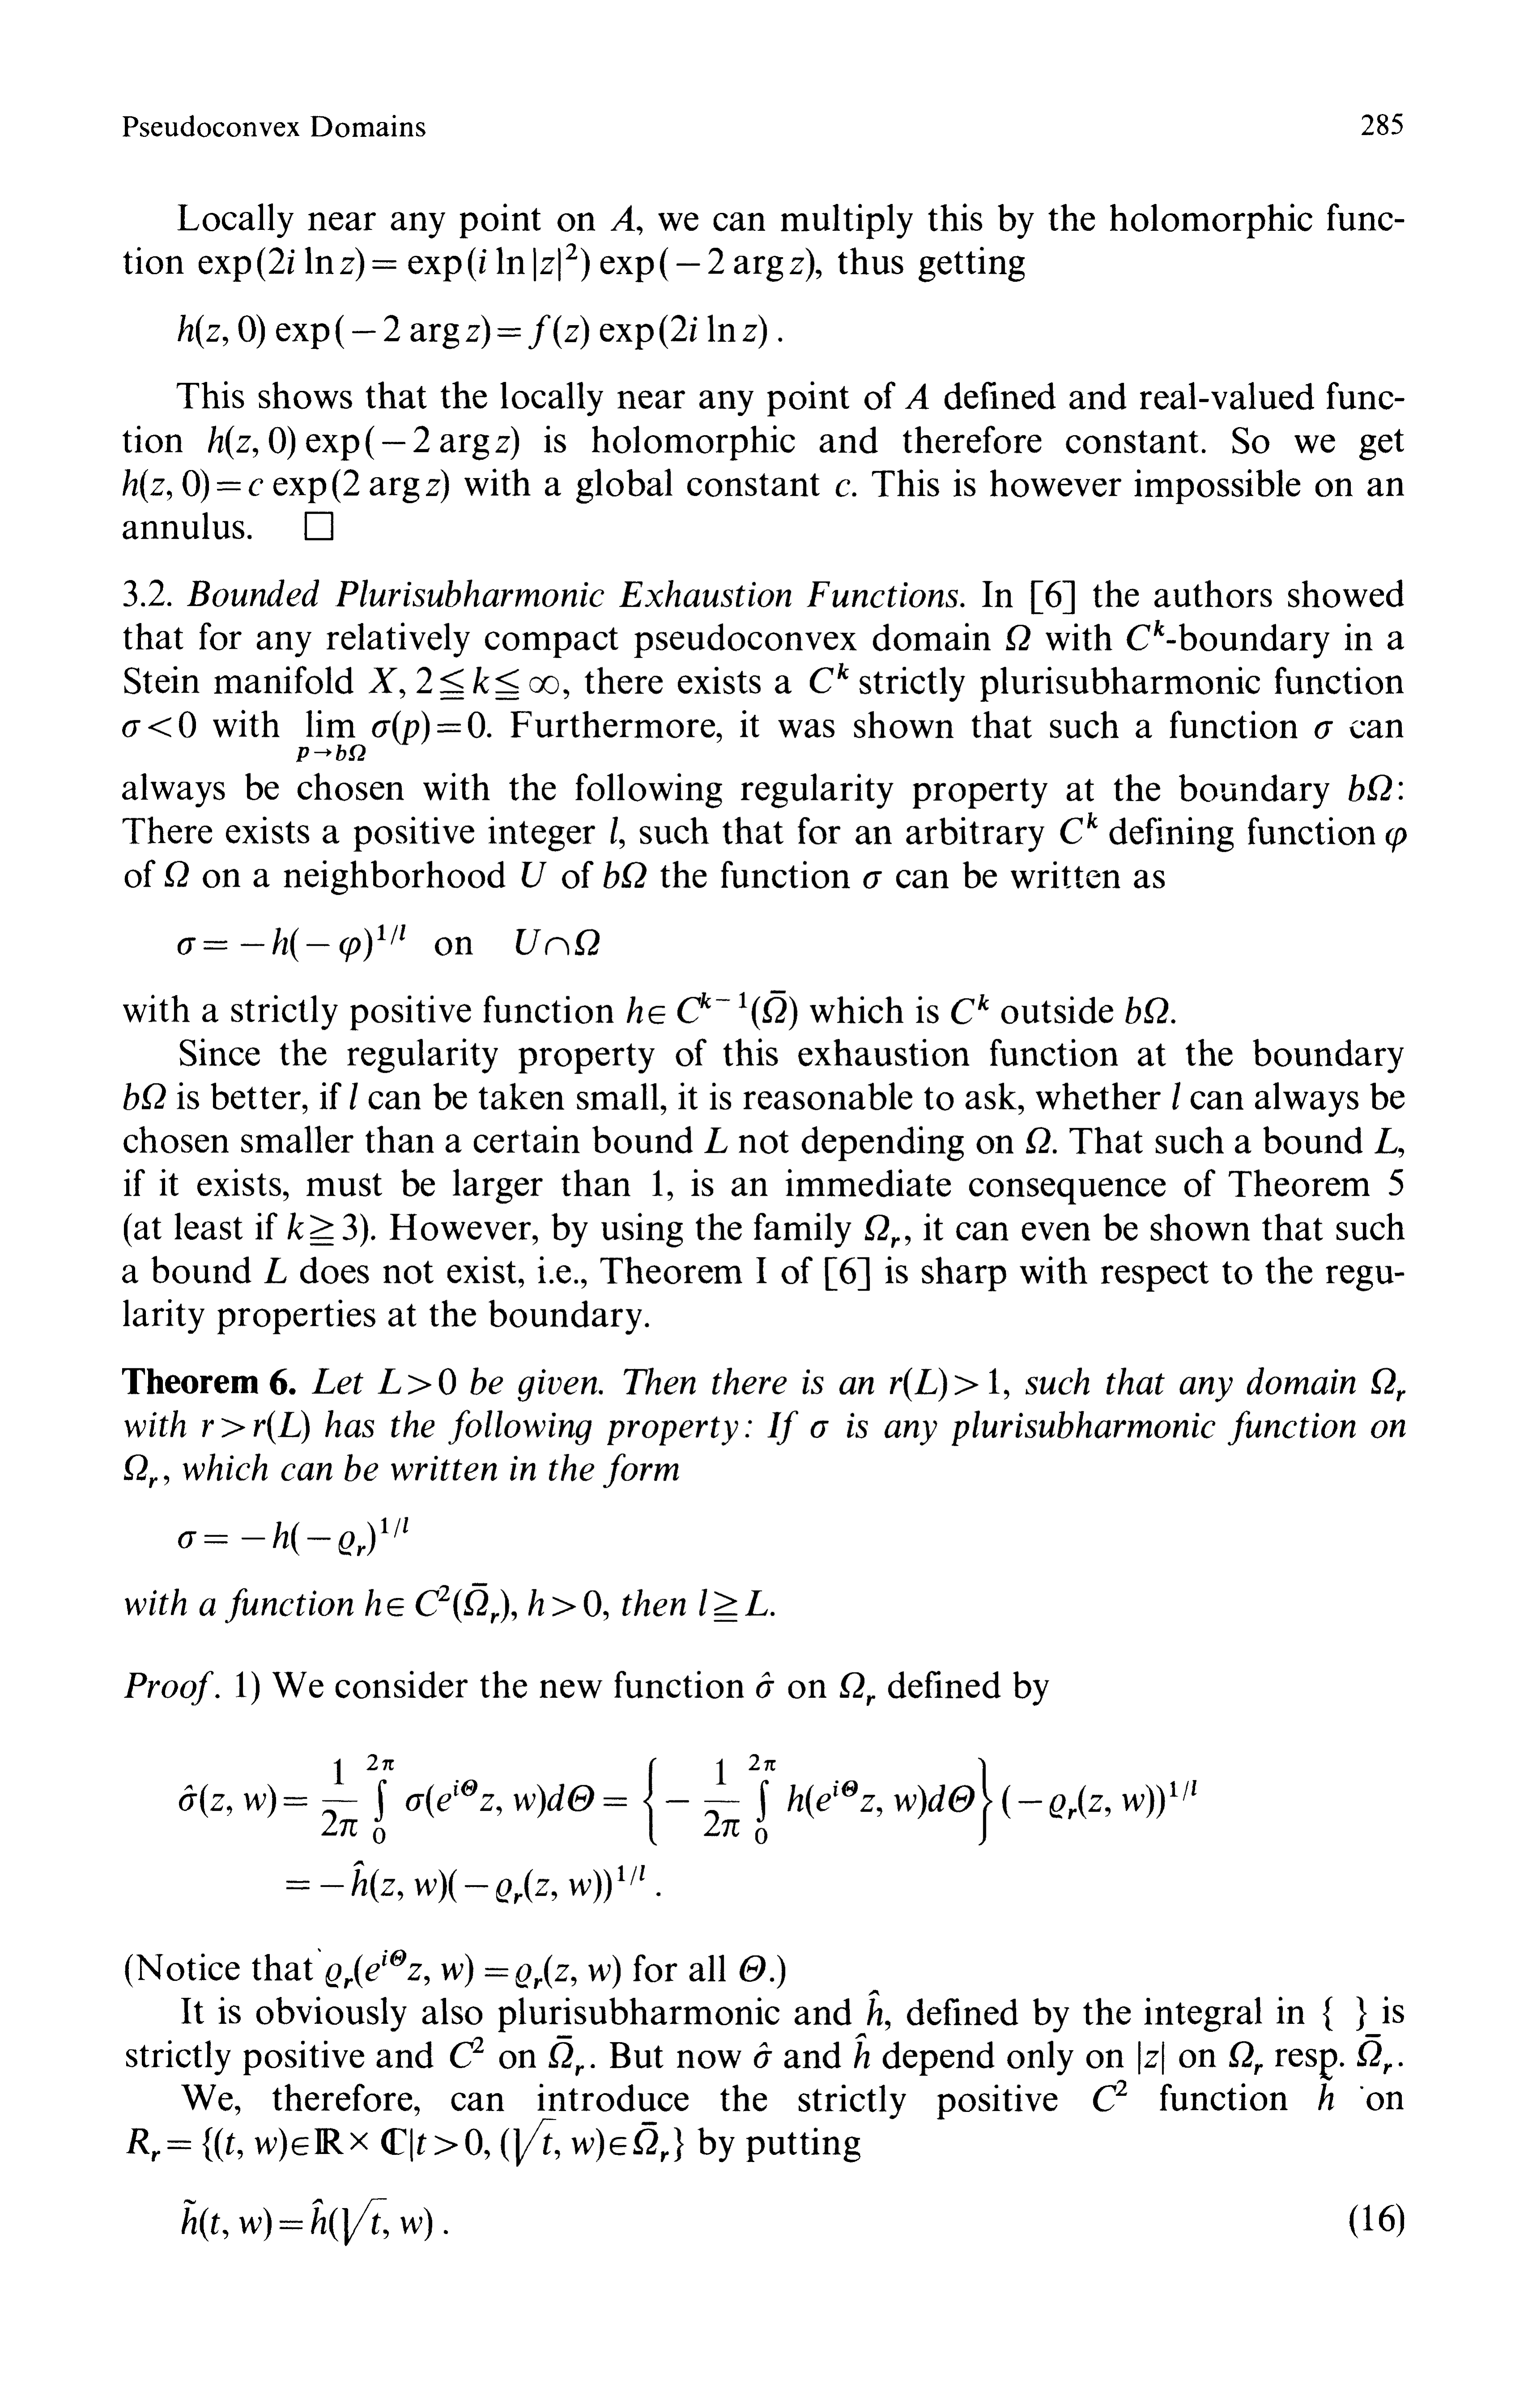maths: (179, 1755, 1196, 1845), (126, 2118, 683, 2166), (198, 244, 815, 283), (177, 314, 768, 349), (286, 1860, 645, 1904), (181, 2199, 432, 2247), (325, 1950, 620, 1989), (123, 469, 448, 502), (207, 426, 518, 460), (297, 711, 485, 762), (177, 1516, 407, 1555), (177, 925, 404, 962), (627, 990, 797, 1030), (365, 1583, 509, 1623), (416, 667, 559, 699), (890, 1367, 999, 1401), (202, 1411, 309, 1444), (288, 1213, 357, 1246), (699, 1588, 768, 1622), (516, 928, 599, 955), (378, 1369, 455, 1395), (529, 1588, 601, 1616), (123, 711, 195, 737), (548, 2036, 583, 2076), (1358, 2034, 1391, 2075), (604, 860, 646, 888), (840, 1673, 875, 1706), (1061, 813, 1098, 844), (810, 663, 848, 693), (866, 1215, 899, 1248), (1372, 1367, 1405, 1401), (1229, 2041, 1263, 2075), (1349, 774, 1391, 800), (1126, 997, 1168, 1023), (123, 1083, 165, 1109), (1092, 2080, 1128, 2111), (1128, 620, 1164, 649), (952, 993, 989, 1023), (1319, 2048, 1337, 2110), (125, 1455, 156, 1488), (450, 2038, 483, 2068), (739, 1955, 775, 1982), (1138, 2041, 1164, 2075), (369, 667, 397, 693), (905, 383, 929, 409), (1026, 1127, 1050, 1153), (1006, 625, 1031, 649), (522, 862, 546, 886), (165, 860, 188, 886), (704, 1127, 727, 1153), (611, 205, 634, 230), (1373, 1129, 1396, 1153), (1386, 827, 1407, 853), (854, 2032, 869, 2068), (265, 1258, 286, 1283), (868, 1990, 882, 2025), (755, 1673, 775, 1697), (753, 2043, 771, 2068), (1323, 1997, 1333, 2031), (1356, 1997, 1366, 2031), (1315, 721, 1333, 739), (864, 871, 882, 888), (811, 1420, 829, 1437), (836, 479, 850, 497), (653, 1171, 662, 1195), (1173, 1081, 1180, 1109), (350, 1083, 357, 1109), (611, 816, 616, 844)
